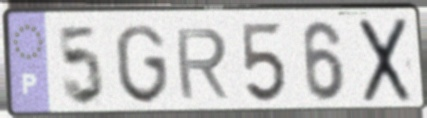5: (55, 22, 106, 108), (238, 21, 288, 105)
6: (300, 19, 348, 104)
G: (112, 22, 172, 107)
R: (172, 26, 232, 103)
X: (358, 14, 414, 106)
